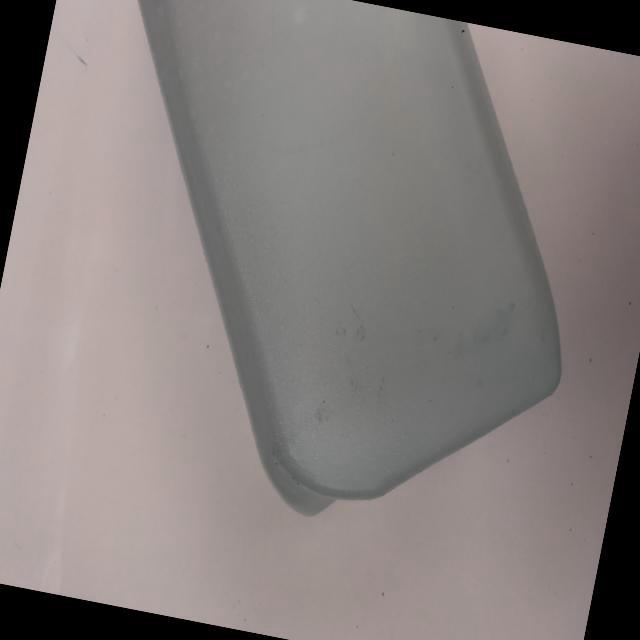plastic: (13, 0, 640, 603)
